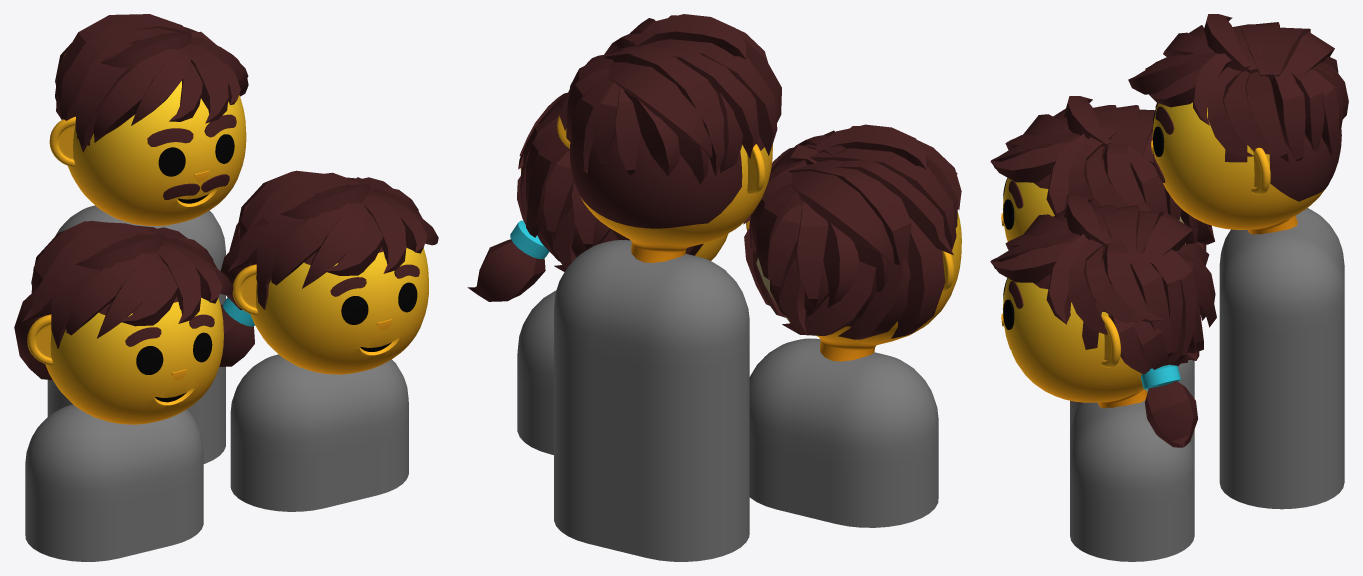
The model's file is family_man_boy_girl.glb.
3 views of the same model, side by side, from view 1: azimuth 30°, elevation 25°; view 2: azimuth 150°, elevation 25°; view 3: azimuth 270°, elevation 25° (orthographic). The views are drawn at different scales.
Visible parts, largest first — view 1: Sphere.334, Sphere.336, Cube.5574, Cube.5605, Cube.5553, Roundcube.406, Roundcube.404, Roundcube.405, Sphere.335, Cube.5625, Circle.1688, Circle.1695 (+8 smaller); view 2: Sphere.335, Cube.5574, Sphere.336, Cube.5553, Roundcube.405, Cube.5605, Sphere.334, Cube.5625, Roundcube.406, Cylinder.330, Cube.5626; view 3: Sphere.335, Cube.5605, Cube.5553, Sphere.334, Cube.5574, Roundcube.405, Roundcube.404, Cube.5625, Roundcube.406, Cylinder.329, Cylinder.330, Cube.5626 (+1 smaller).
Boxes of the visible parts, left/top/right/bottom form: Sphere.334: left=230, top=354, right=408, bottom=511; Sphere.336: left=25, top=404, right=203, bottom=561; Cube.5574: left=14, top=221, right=233, bottom=380; Cube.5605: left=220, top=170, right=438, bottom=309; Cube.5553: left=55, top=14, right=248, bottom=152; Roundcube.406: left=45, top=296, right=223, bottom=424; Roundcube.404: left=250, top=247, right=428, bottom=374; Roundcube.405: left=68, top=81, right=246, bottom=226; Sphere.335: left=47, top=205, right=225, bottom=463; Cube.5625: left=219, top=304, right=254, bottom=366; Circle.1688: left=158, top=134, right=234, bottom=176; Circle.1695: left=341, top=282, right=417, bottom=324; Sphere.335: left=554, top=240, right=749, bottom=561; Cube.5574: left=743, top=124, right=961, bottom=339; Sphere.336: left=749, top=338, right=938, bottom=527; Cube.5553: left=559, top=14, right=781, bottom=184; Roundcube.405: left=570, top=132, right=772, bottom=262; Cube.5605: left=517, top=92, right=703, bottom=271; Sphere.334: left=517, top=290, right=556, bottom=454; Cube.5625: left=467, top=239, right=545, bottom=301; Roundcube.406: left=816, top=212, right=961, bottom=361; Cylinder.330: left=557, top=114, right=765, bottom=194; Cube.5626: left=510, top=220, right=549, bottom=258; Sphere.335: left=1219, top=208, right=1344, bottom=509; Cube.5605: left=990, top=196, right=1216, bottom=374; Cube.5553: left=1128, top=14, right=1348, bottom=162; Sphere.334: left=1070, top=389, right=1194, bottom=561; Cube.5574: left=990, top=96, right=1214, bottom=251; Roundcube.405: left=1152, top=67, right=1341, bottom=234; Roundcube.404: left=1002, top=258, right=1151, bottom=408; Cube.5625: left=1144, top=358, right=1197, bottom=447; Roundcube.406: left=1003, top=158, right=1104, bottom=241; Cylinder.329: left=1101, top=316, right=1120, bottom=367; Cylinder.330: left=1250, top=147, right=1270, bottom=194; Cube.5626: left=1141, top=364, right=1180, bottom=389.
Size of the model in its own units: 2.53 by 2.58 by 1.9.
1 material, 1 textured.
